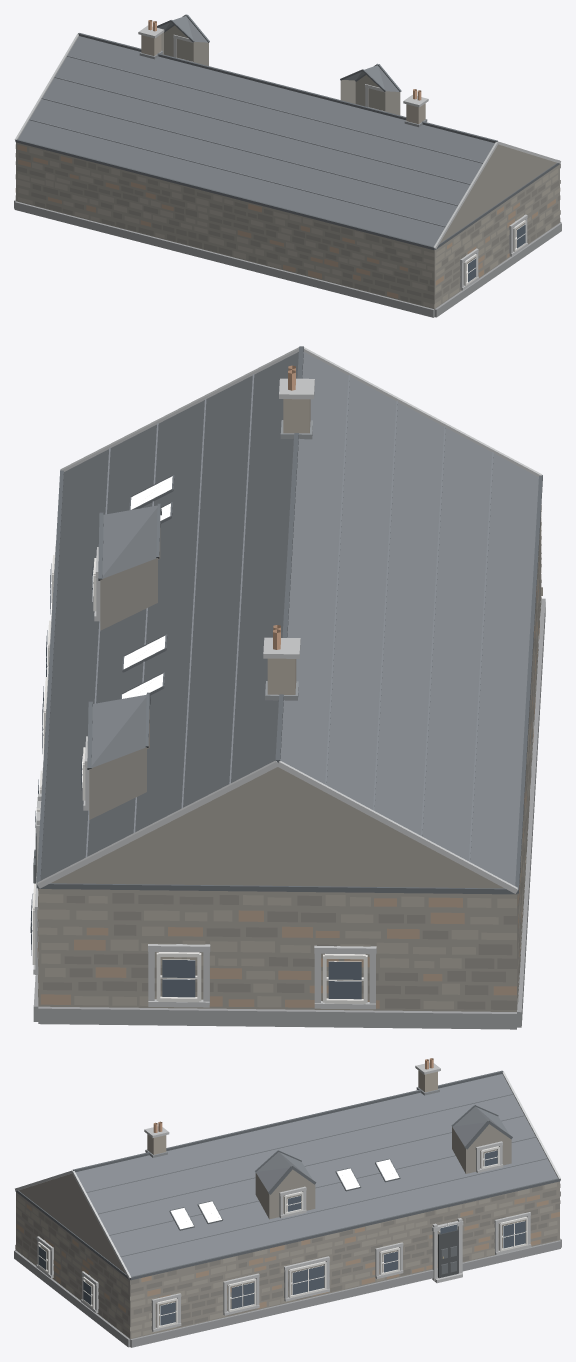
3 views of the same model, one above another, from view 1: azimuth 30°, elevation 25°; view 2: azimuth 150°, elevation 25°; view 3: azimuth 270°, elevation 25° (orthographic). The views are drawn at different scales.
Parts seen in each view (by area): view 1: slate, rubble, rubble_dk, rubble_lt, plinth, slate_dk, slate_lt, stone_band, rubble_rust, chim_stone, frame; view 2: slate, rubble, rubble_lt, rubble_dk, stone_band, plinth, slate_dk, slate_lt, rubble_rust, frame, chim_stone; view 3: slate, rubble, rubble_dk, rubble_lt, stone_band, plinth, slate_dk, frame, slate_lt, rubble_rust, chim_stone, door_dark.
Part boxes in pixels (box(x1,y1,x2,y2)): slate: box(18, 16, 494, 246); rubble: box(16, 25, 559, 317); rubble_dk: box(15, 152, 560, 304); rubble_lt: box(15, 144, 560, 308); plinth: box(14, 200, 561, 317); slate_dk: box(15, 14, 560, 249); slate_lt: box(29, 55, 482, 227); stone_band: box(14, 25, 560, 290); rubble_rust: box(15, 144, 555, 298); chim_stone: box(141, 34, 425, 124); frame: box(463, 220, 526, 285); slate: box(40, 352, 538, 885); rubble: box(38, 524, 540, 1011); rubble_lt: box(37, 505, 542, 1009); rubble_dk: box(37, 516, 541, 1009); stone_band: box(30, 347, 542, 1009); plinth: box(33, 598, 545, 1029); slate_dk: box(36, 346, 542, 894); slate_lt: box(85, 374, 493, 861); rubble_rust: box(37, 561, 539, 1008); frame: box(32, 555, 367, 1004); chim_stone: box(267, 399, 310, 694); slate: box(75, 1074, 557, 1276); rubble: box(16, 1124, 559, 1347); rubble_dk: box(16, 1185, 559, 1337); rubble_lt: box(15, 1182, 560, 1337); stone_band: box(15, 1062, 560, 1332); plinth: box(14, 1238, 561, 1347); slate_dk: box(15, 1070, 560, 1280); frame: box(38, 1146, 527, 1328); slate_lt: box(86, 1093, 547, 1256); rubble_rust: box(16, 1194, 559, 1312); chim_stone: box(147, 1070, 437, 1154); door_dark: box(438, 1229, 458, 1278).
Size of the model in its own units: 21.05 by 8.57 by 25.69.
